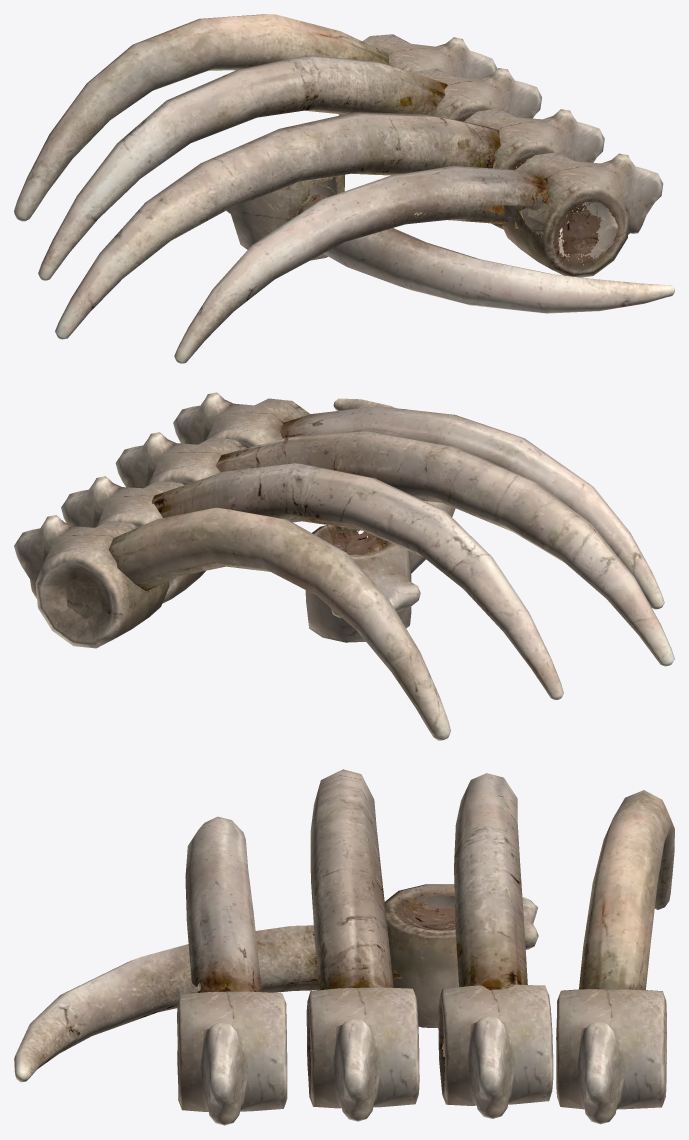
3 renders of one model, top to bottom at view 1: azimuth 30°, elevation 25°; view 2: azimuth 150°, elevation 25°; view 3: azimuth 270°, elevation 25°, orthographic. The views are drawn at different scales.
Parts seen in each view (by area): view 1: SM_Lougrims_Shrine_Bones_01_LOD0; view 2: SM_Lougrims_Shrine_Bones_01_LOD0; view 3: SM_Lougrims_Shrine_Bones_01_LOD0.
Part boxes in pixels (bbox=[...]): SM_Lougrims_Shrine_Bones_01_LOD0: bbox=[14, 14, 674, 363]; SM_Lougrims_Shrine_Bones_01_LOD0: bbox=[14, 392, 674, 740]; SM_Lougrims_Shrine_Bones_01_LOD0: bbox=[14, 769, 674, 1125].
Size of the model in its own units: 1.05 by 0.3083 by 0.9412.
1 material, 1 textured.
